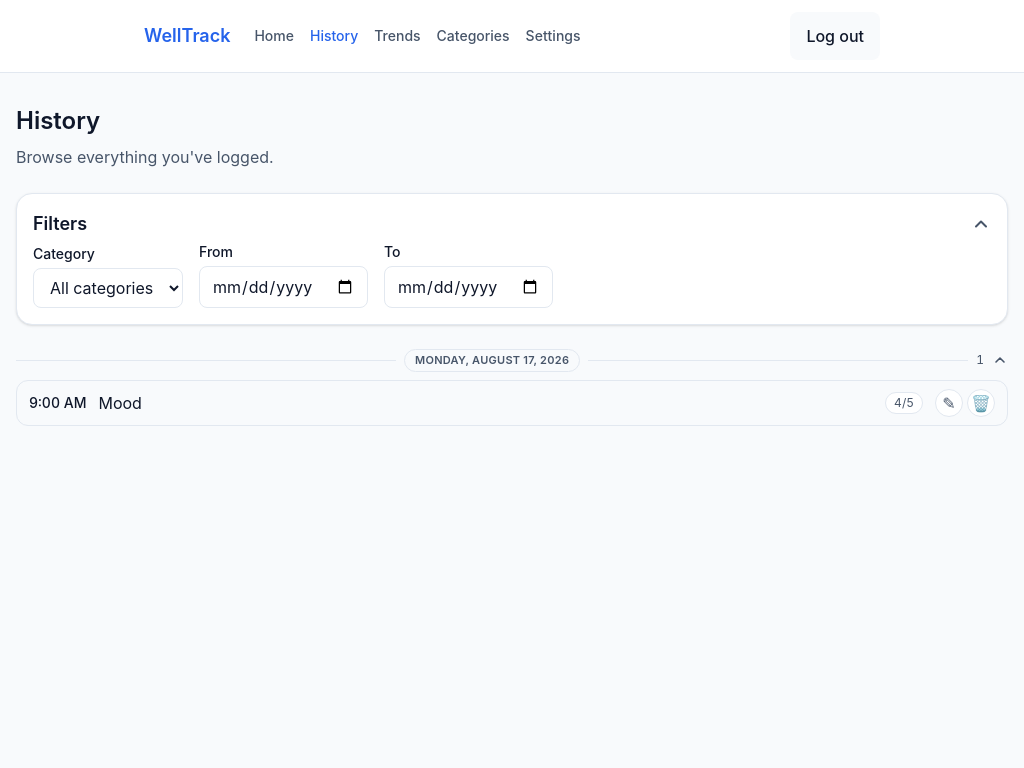
Test case: HistoryPage › does not delete when the confirmation dialog is cancelled
Expected: the text "Mood" is shown, [98,392,142,412]
Click the button named "delete entry" at (981, 402), box [967,388,995,416]
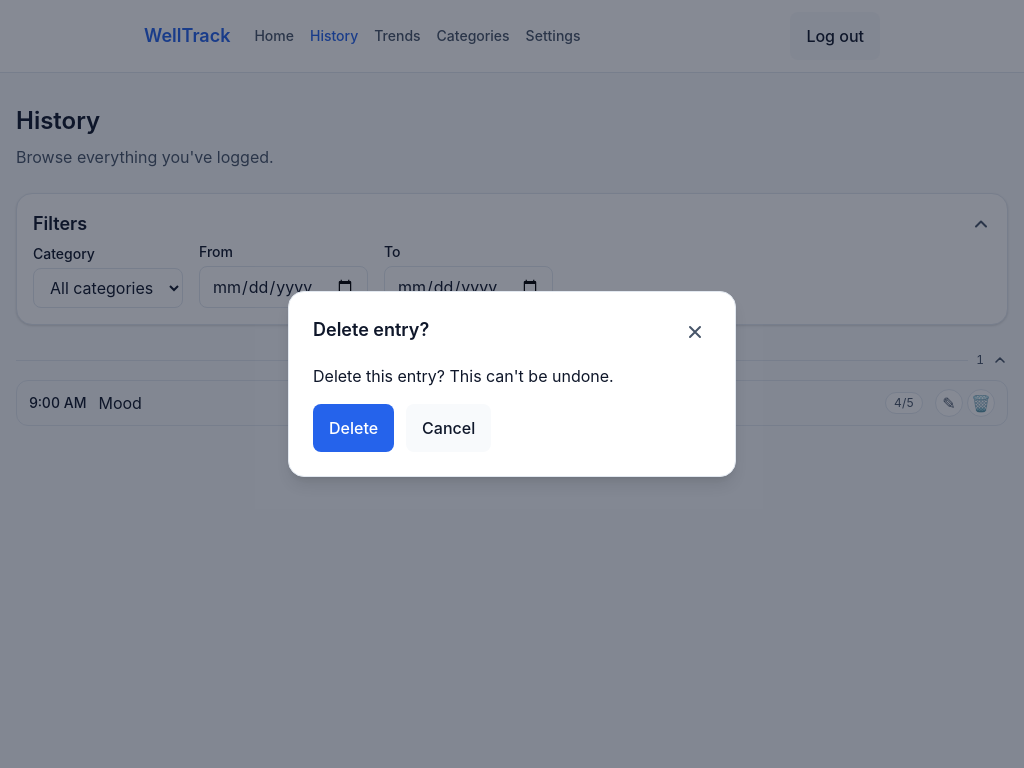
Click the button "Cancel" at (449, 428), box [406,404,491,452]
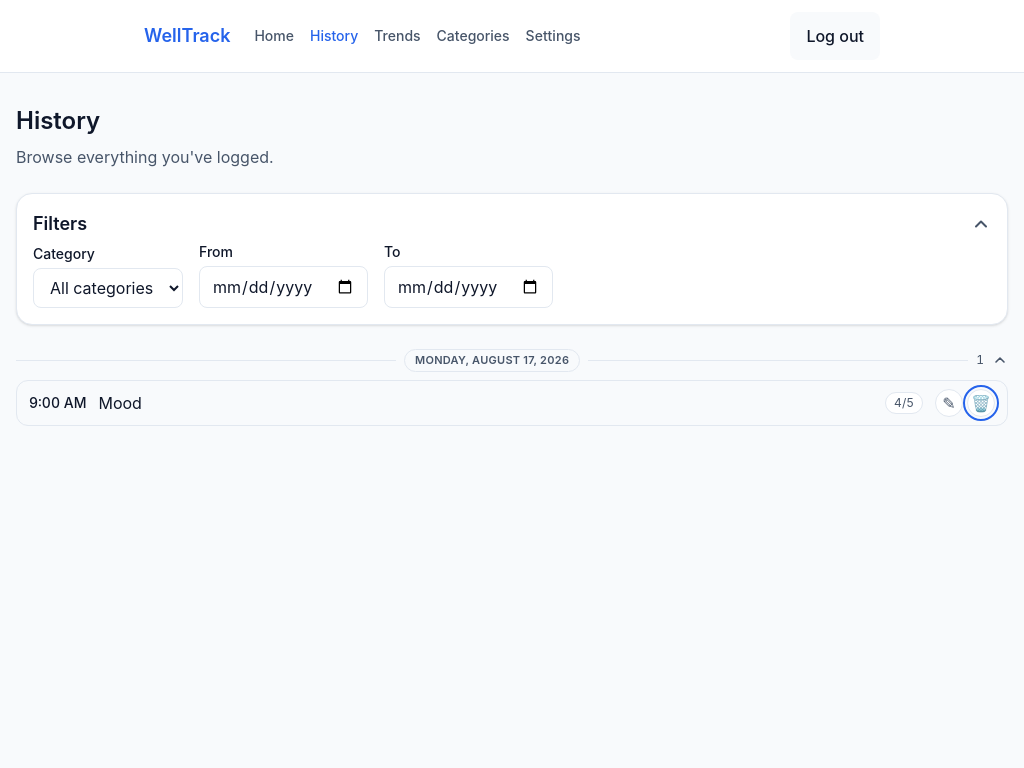
Expected: the text "Mood" is shown, [98,392,142,412]
Expected: the button "Cancel" is gone
